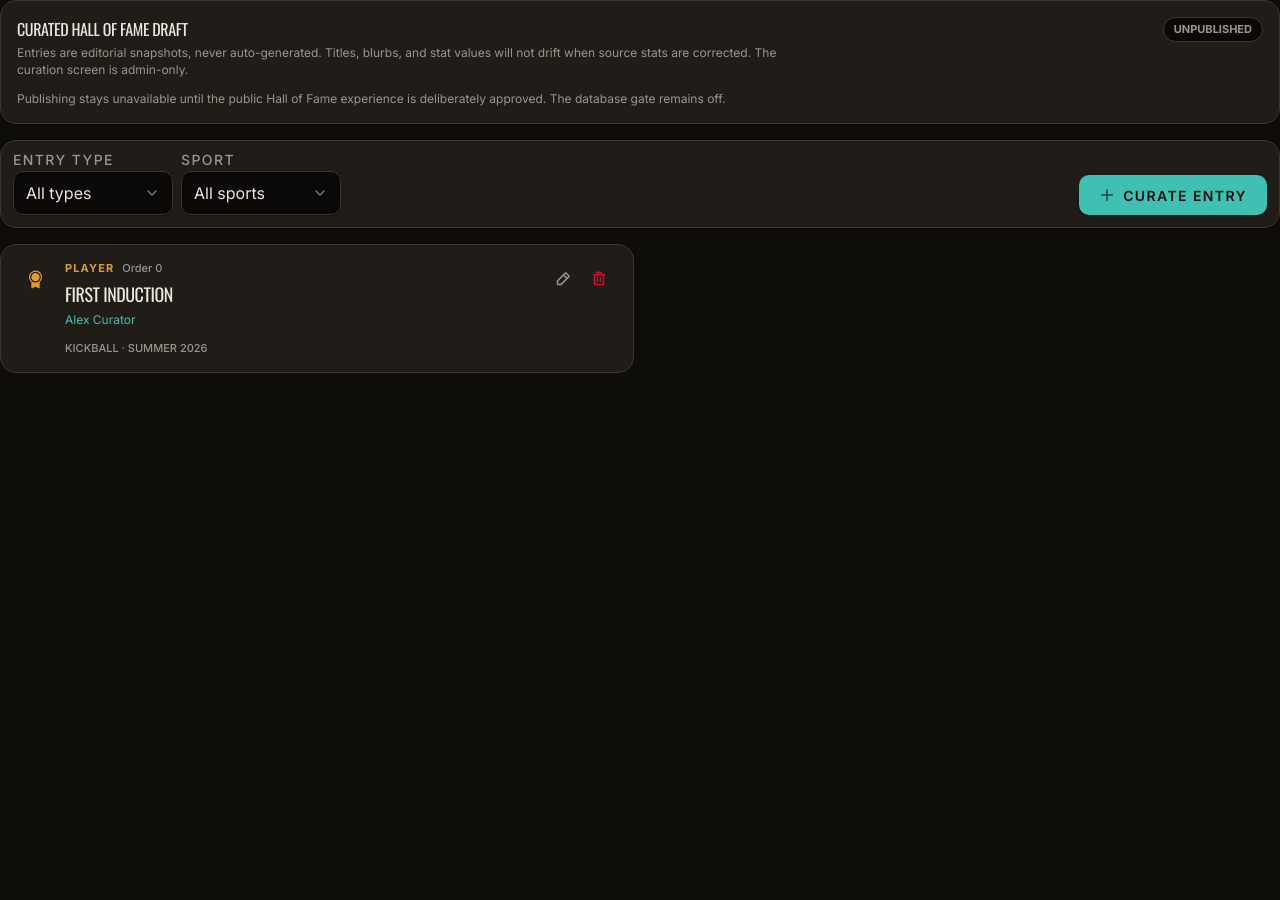
Test: HallOfFameTab curation › deletes a curated entry after confirmation
This screenshot has width=1280, height=900.
What coordinates should you click on to do the following:
click the button named "Delete entry"
I would click on:
 (599, 279)
Its box is [581,261,617,297].
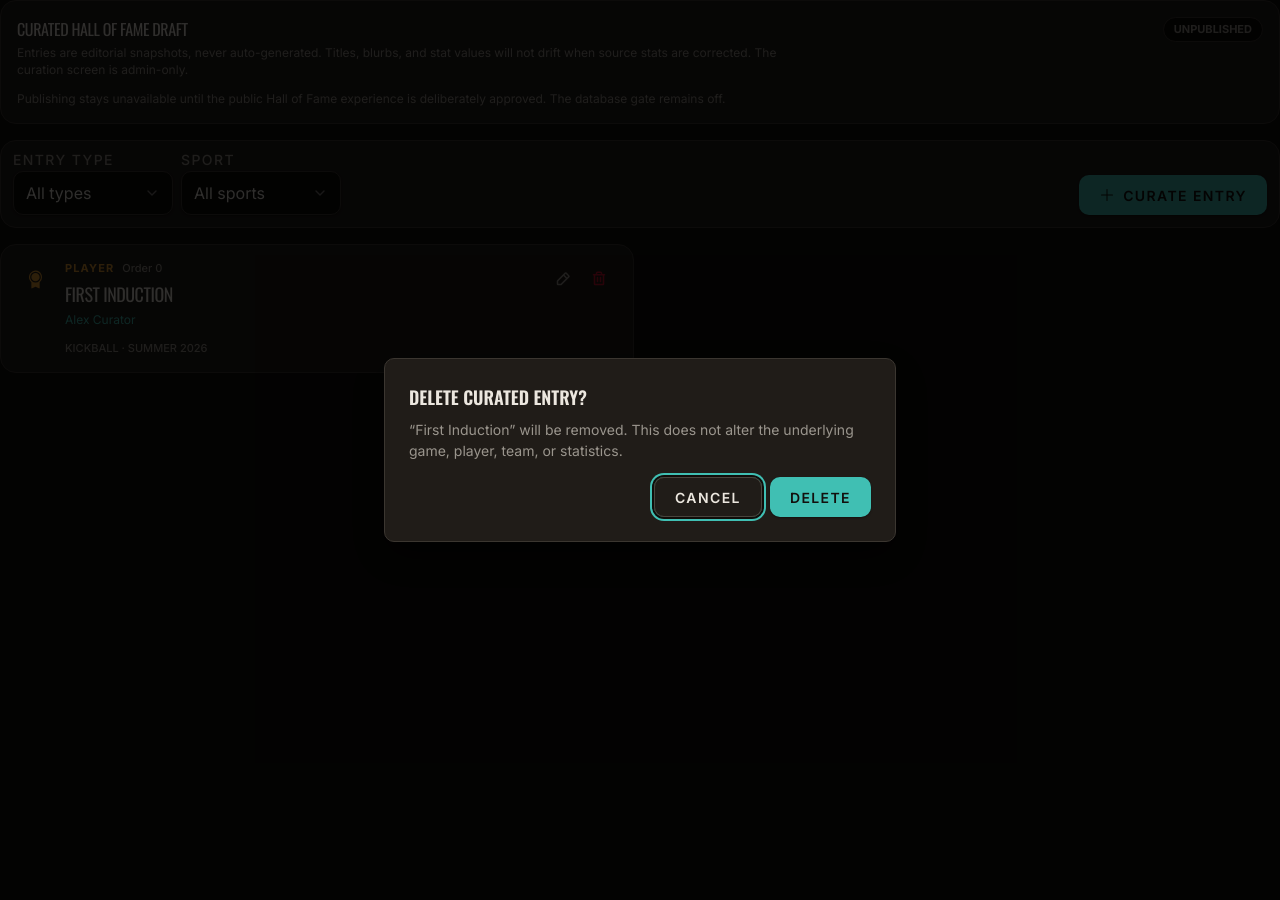
What coordinates should you click on to do the following:
click the button "Delete"
I would click on:
 (820, 497)
Its box is [770,477,871,517].
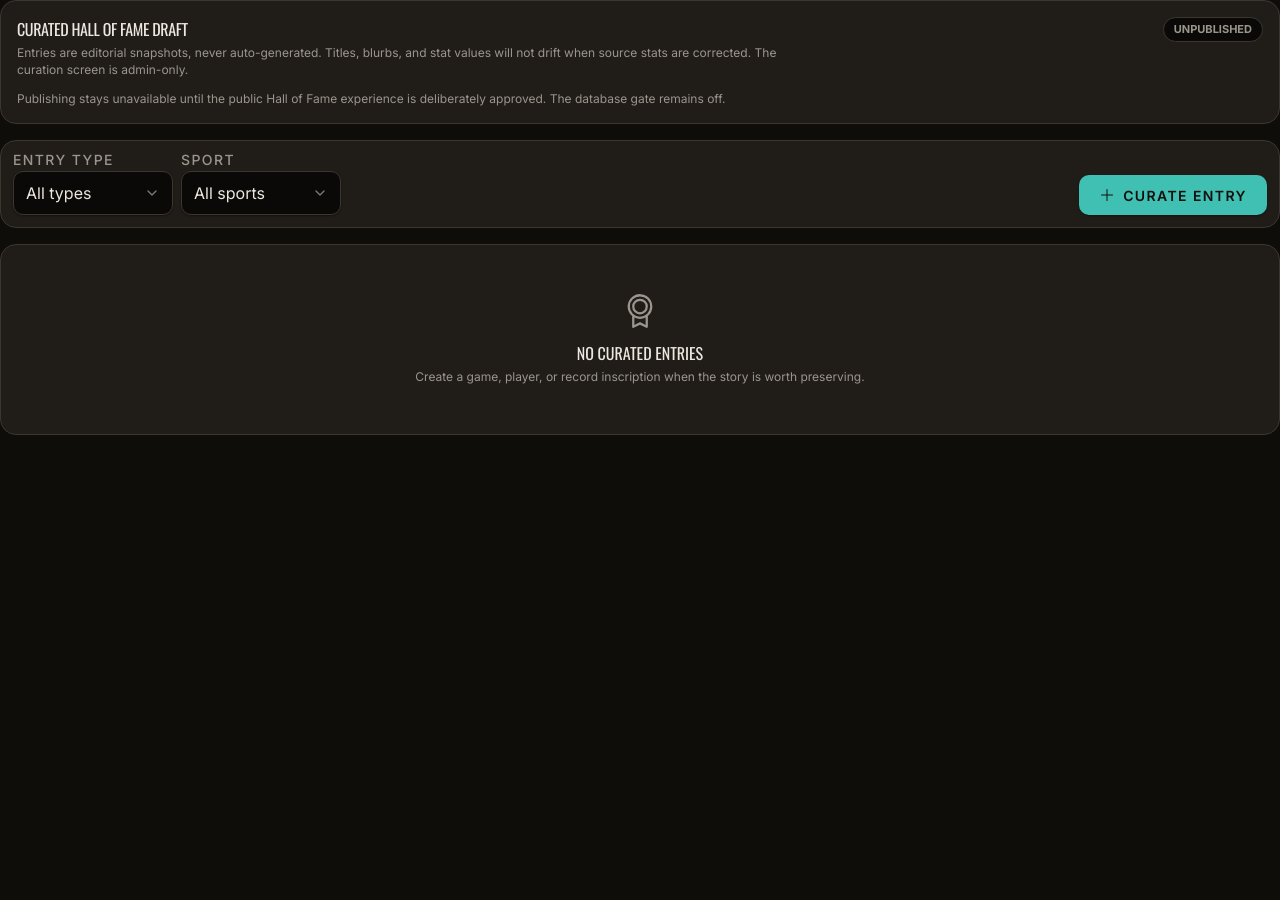
Check: the element with test id "hof-entry-hof-1" is gone
Check: the text "No curated entries" is shown, box [577,341,703,365]
